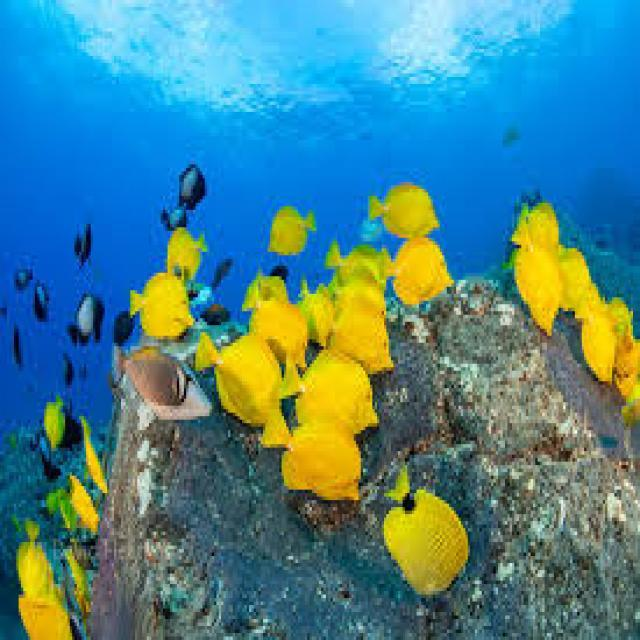YellowTang: (378, 462, 468, 614), (260, 394, 363, 516), (279, 329, 377, 433), (187, 326, 270, 424), (375, 227, 461, 321), (126, 256, 196, 356), (369, 168, 443, 253), (328, 272, 392, 365), (243, 260, 303, 347), (512, 238, 562, 338), (262, 194, 318, 266), (147, 218, 215, 274), (76, 410, 111, 506), (18, 509, 52, 605), (38, 389, 69, 455)
